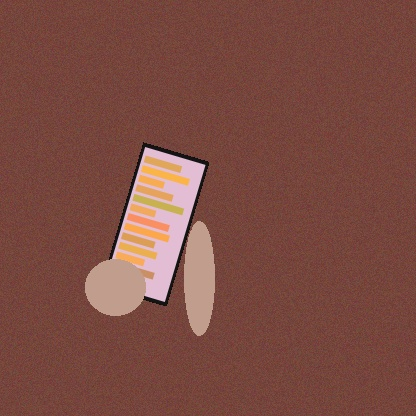cell_phone: (100, 142, 209, 306)
